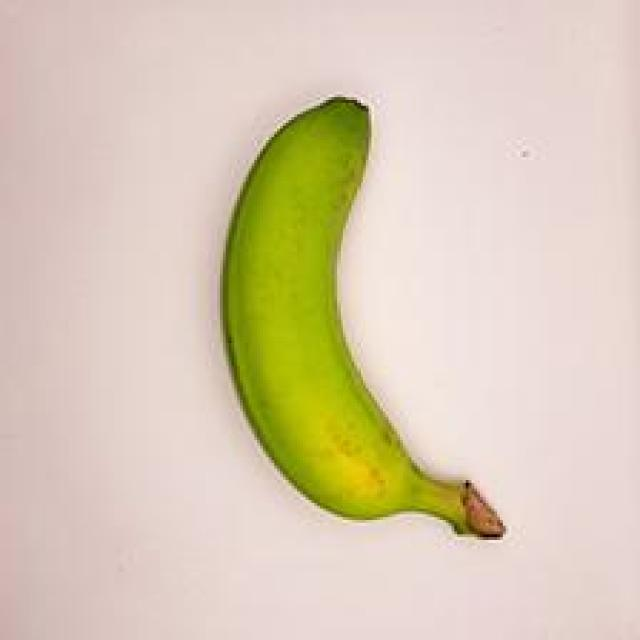Unripe: (205, 82, 526, 577)
